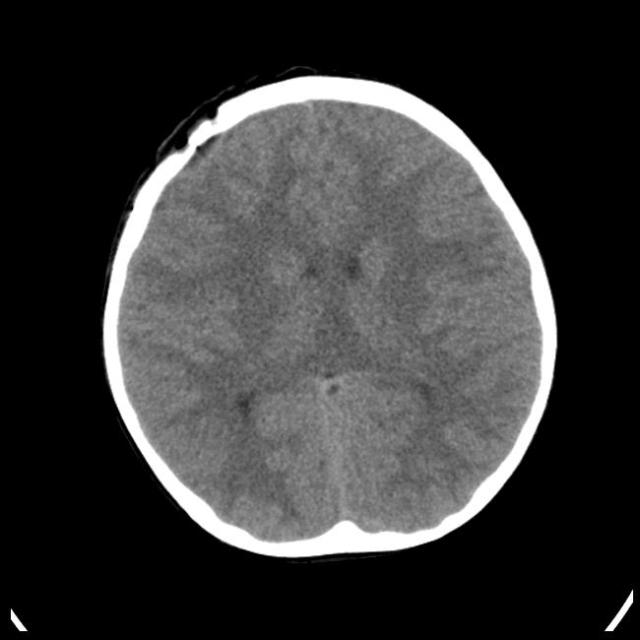lesion: (100, 72, 560, 558)
